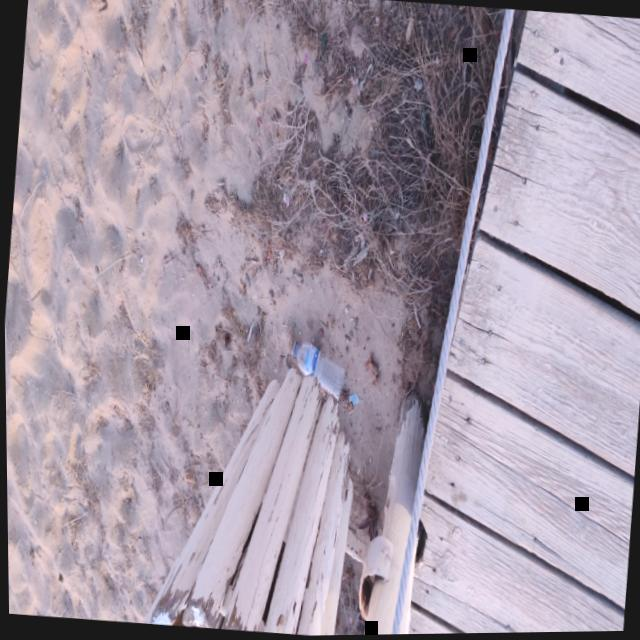Cigarette: (339, 572, 346, 581), (182, 476, 190, 482)
Clear plastic bottle: (289, 339, 343, 400)
Unlabeled litter: (346, 393, 357, 404)
